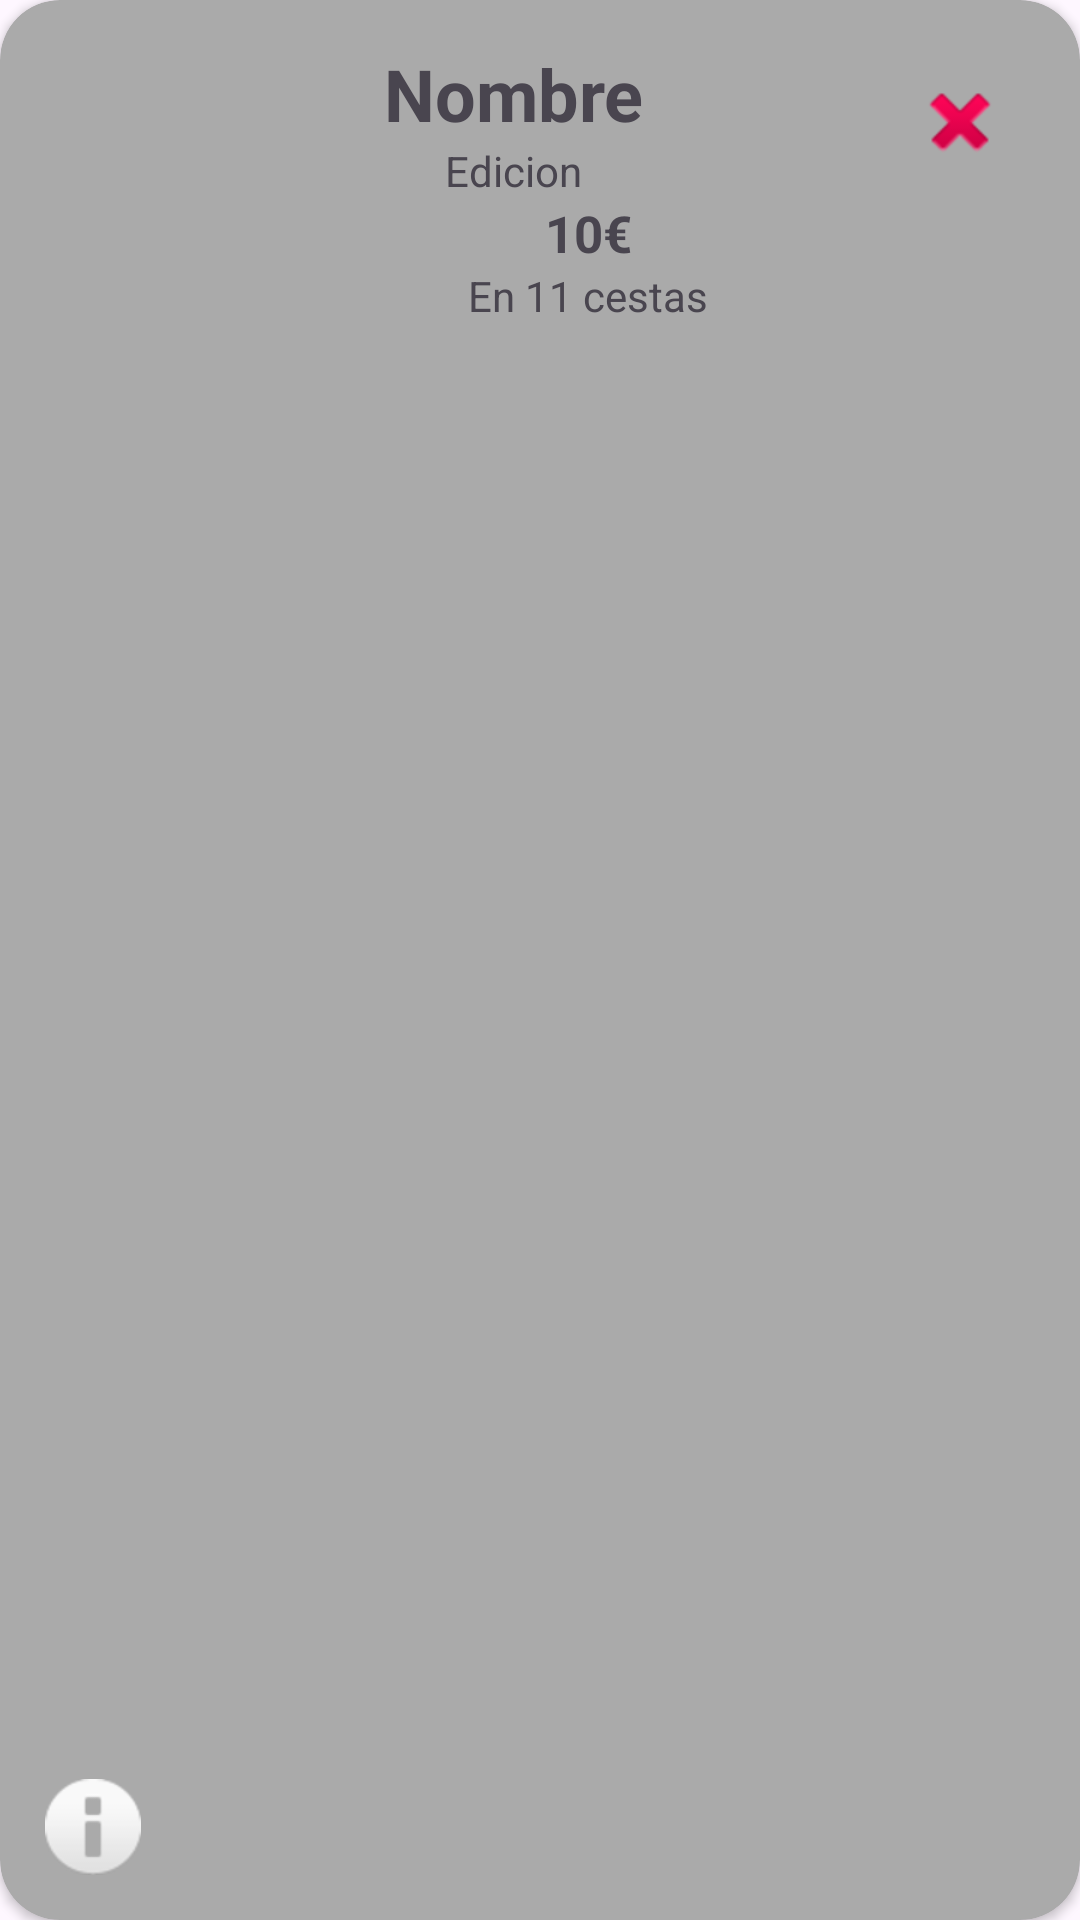

Icons on this 1080×1920 Android screen, each with the point to tap as point (x, y):
delete: point (960, 122)
info: point (93, 1826)
